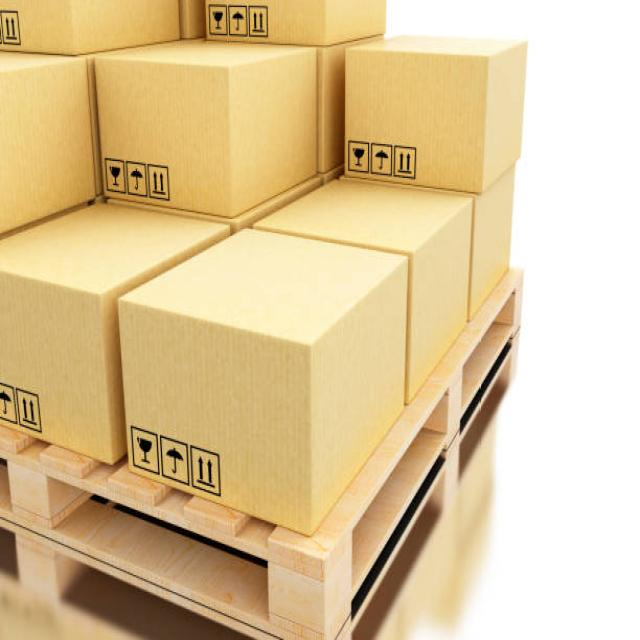Wooden-Pallets: (0, 259, 528, 640)
